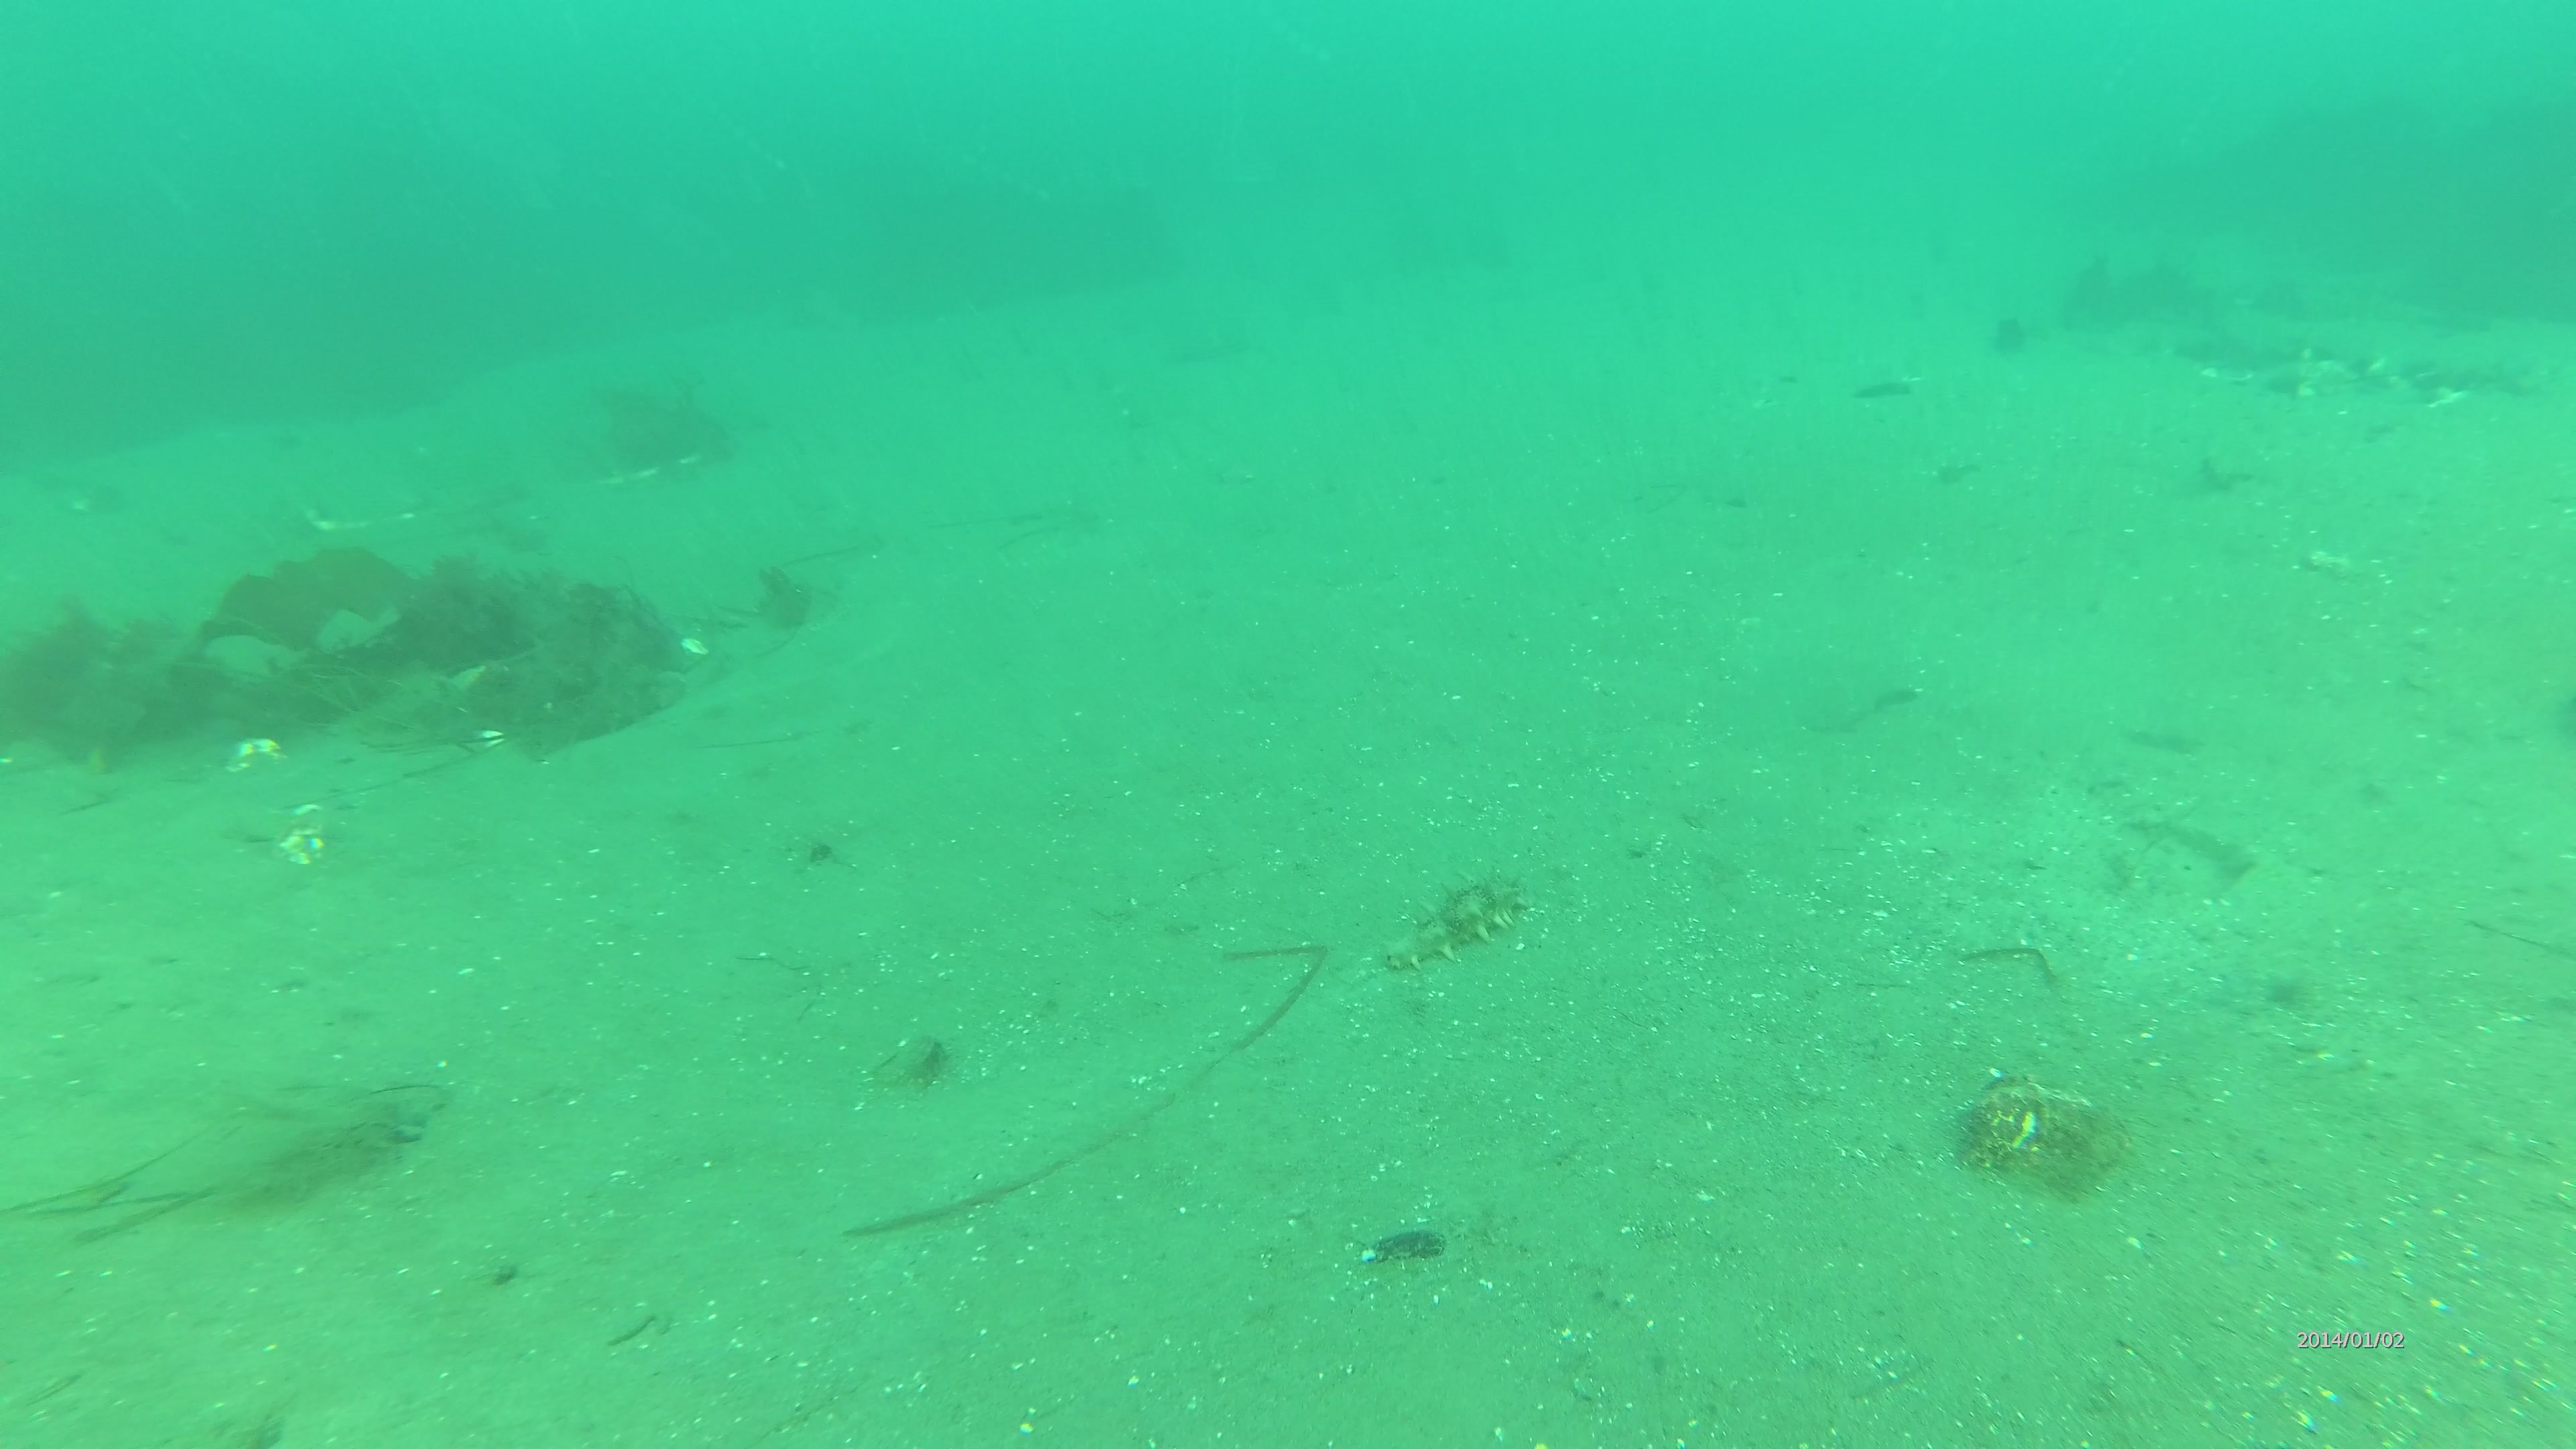holothurian: (1382, 869, 1539, 966)
scallop: (885, 1028, 952, 1102), (223, 729, 288, 775), (672, 619, 713, 667), (460, 727, 513, 752)
